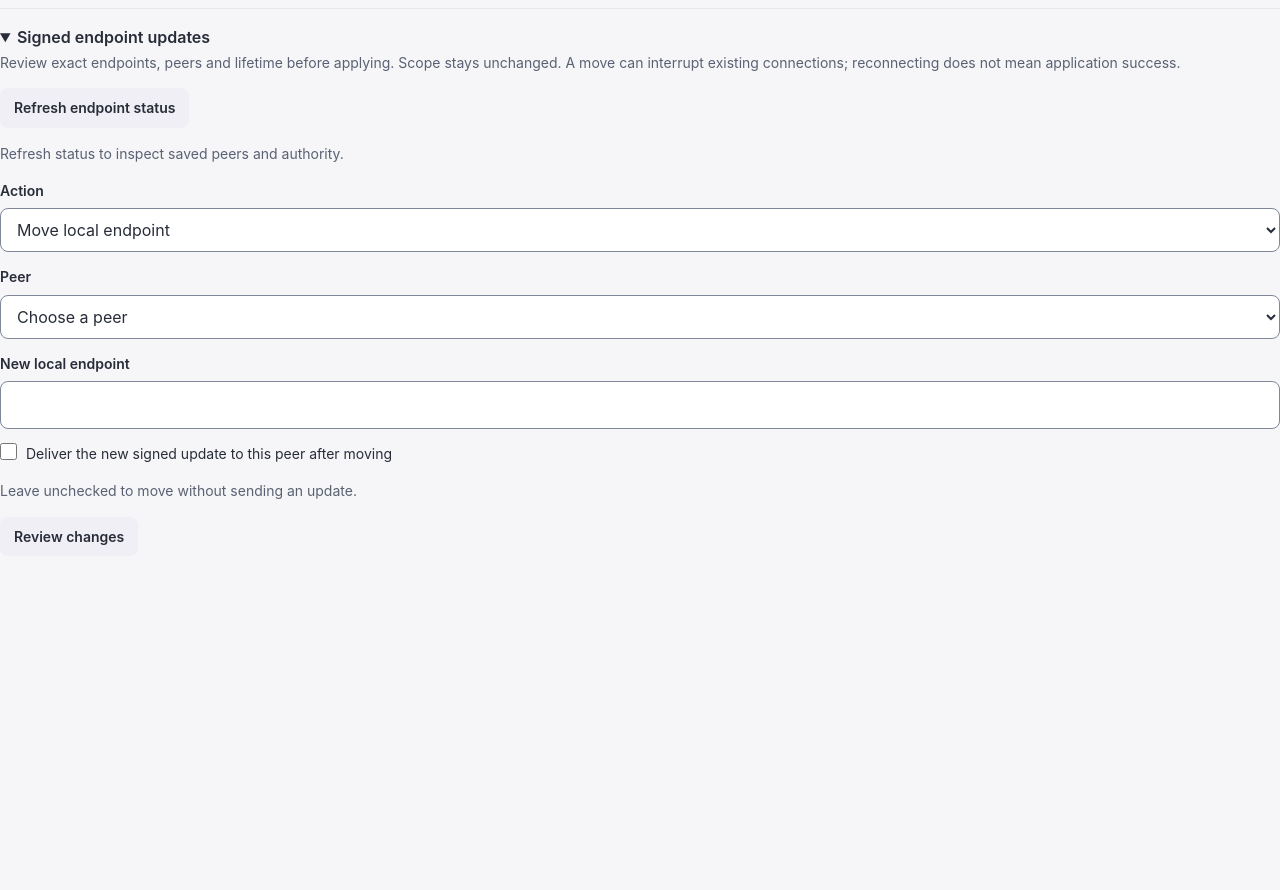
Scenario: reviewed endpoint controls › requires separate exact consent and sends no implicit delivery in en
The width and height of the screenshot is (1280, 890).
In the field labelled "New local endpoint": (640, 405) [0,381,1279,429], type "127.0.0.2:48444"
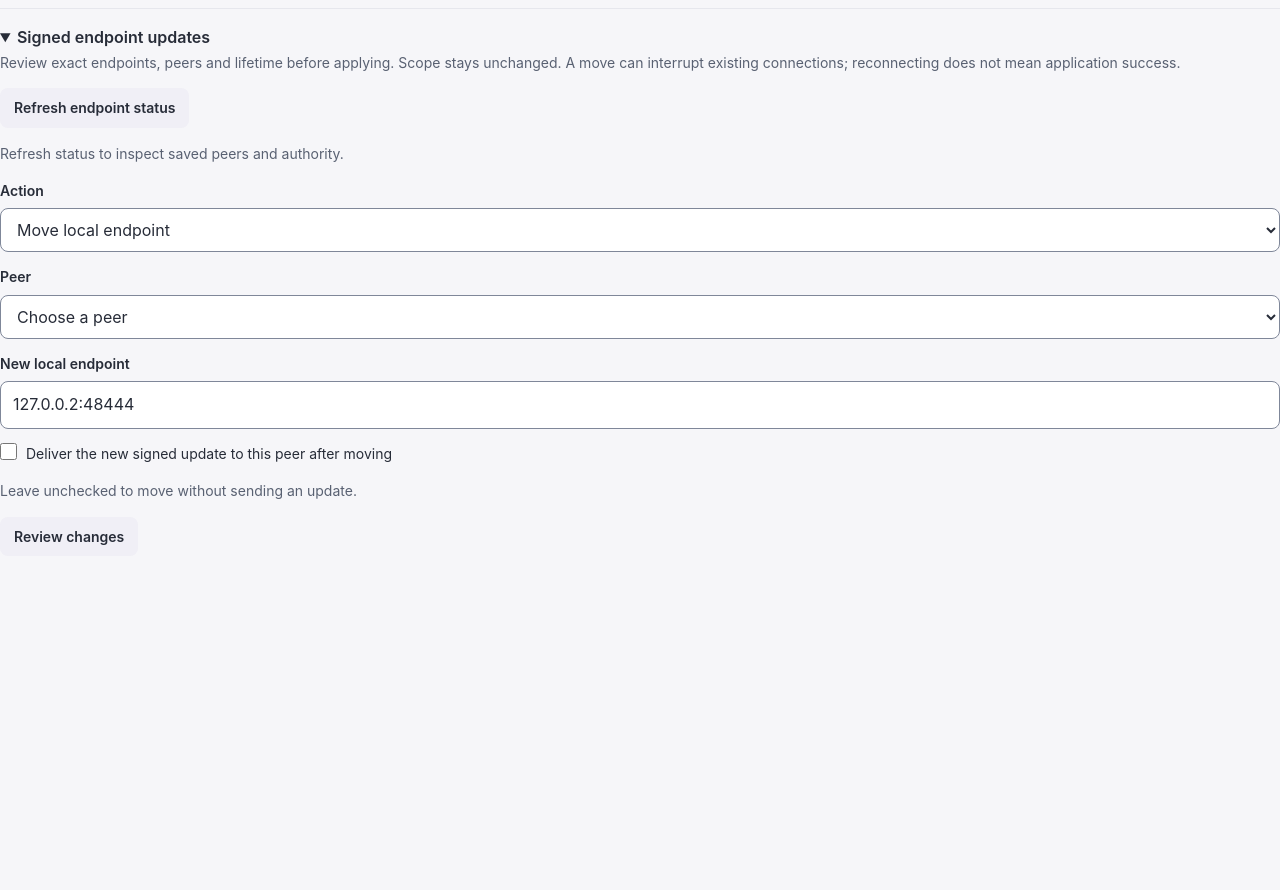
Click the button "Review changes": (69, 536) [0,517,138,556]
(page scrolled)
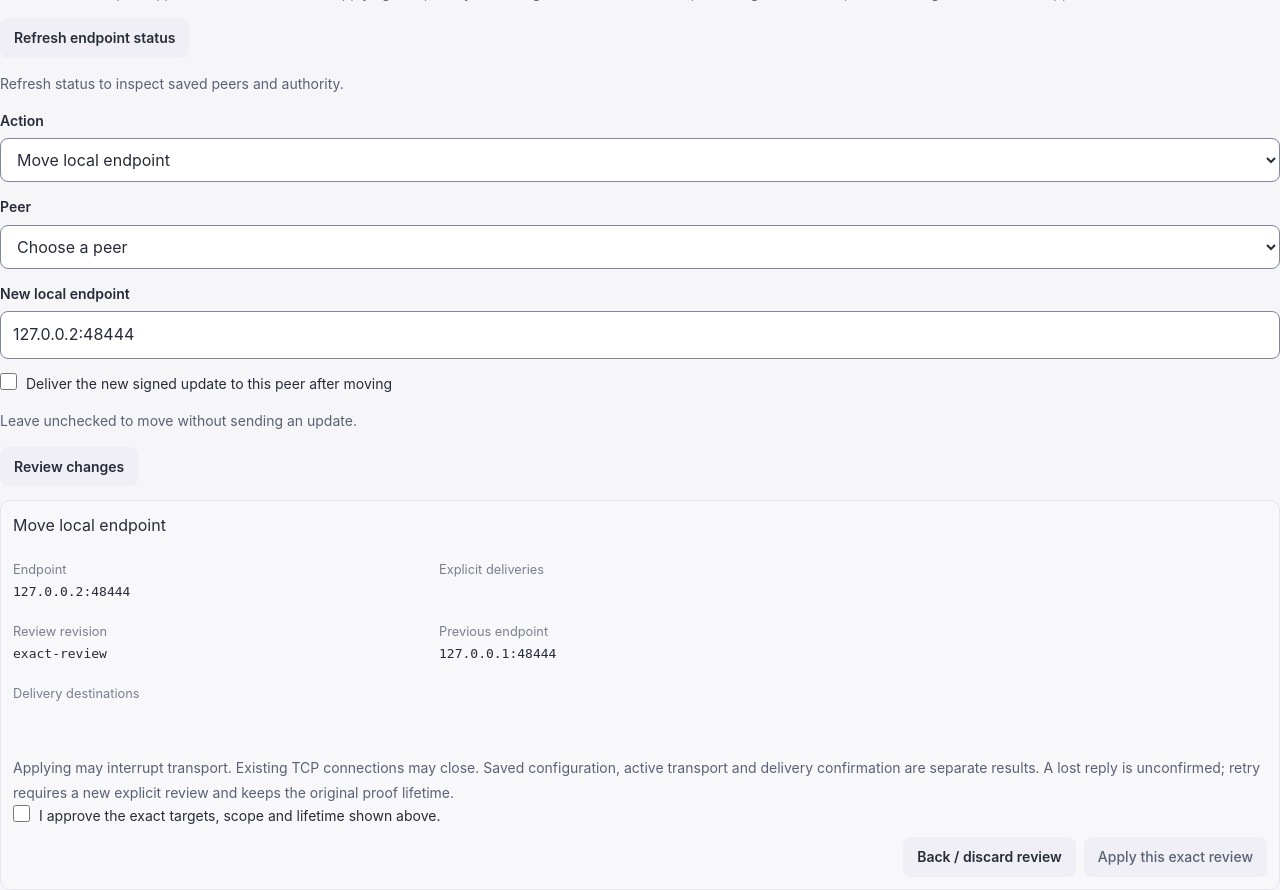
Check: the element named "Review changes" is shown, box [0,500,1279,889]
Check: the button "Apply this exact review" is disabled, box [1084,837,1267,877]
Click the checkbox labelled "I approve the exact targets, scope and lifetime shown above.": (22, 814) [13,805,30,822]
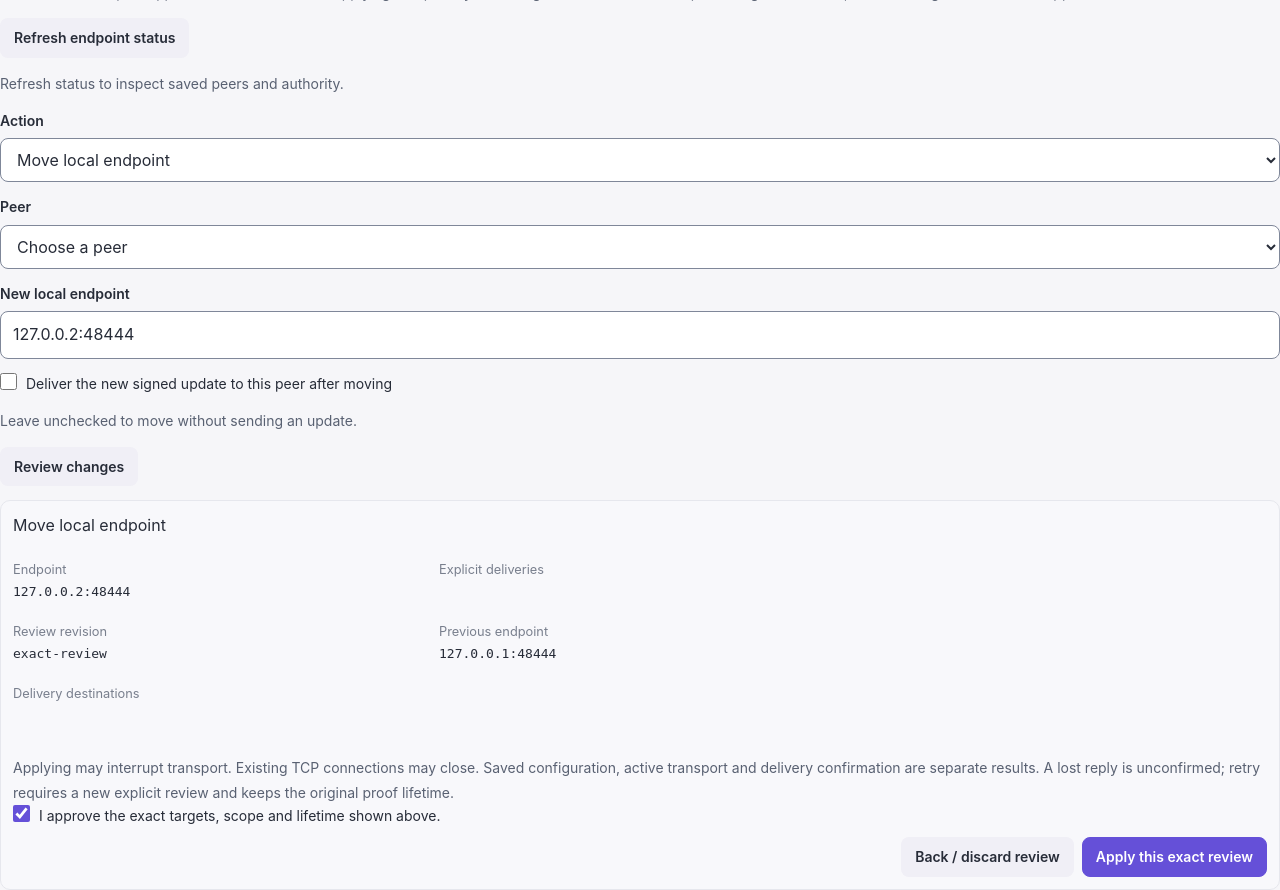
Click the button "Apply this exact review": (1174, 857) [1082,837,1267,877]
(page scrolled)
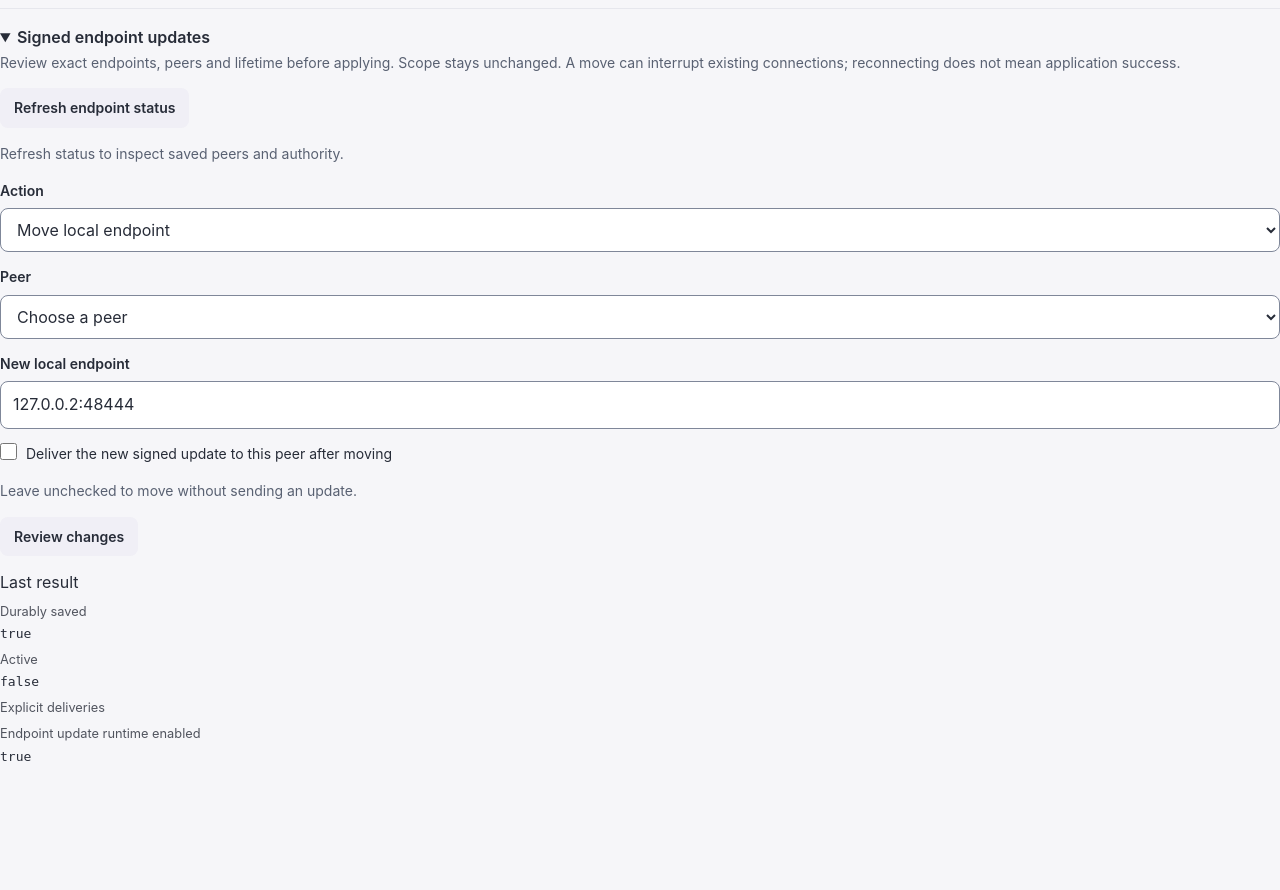
Check: the text "false" is shown, box [0,674,39,689]
Check: the button "Apply this exact review" is gone
